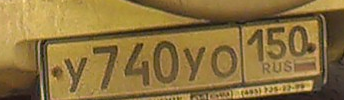character: (121, 41, 154, 88), (91, 44, 120, 91), (209, 40, 241, 82), (152, 41, 180, 85), (60, 54, 89, 95), (182, 46, 208, 85), (265, 25, 288, 61), (287, 25, 311, 58), (247, 26, 266, 66)
